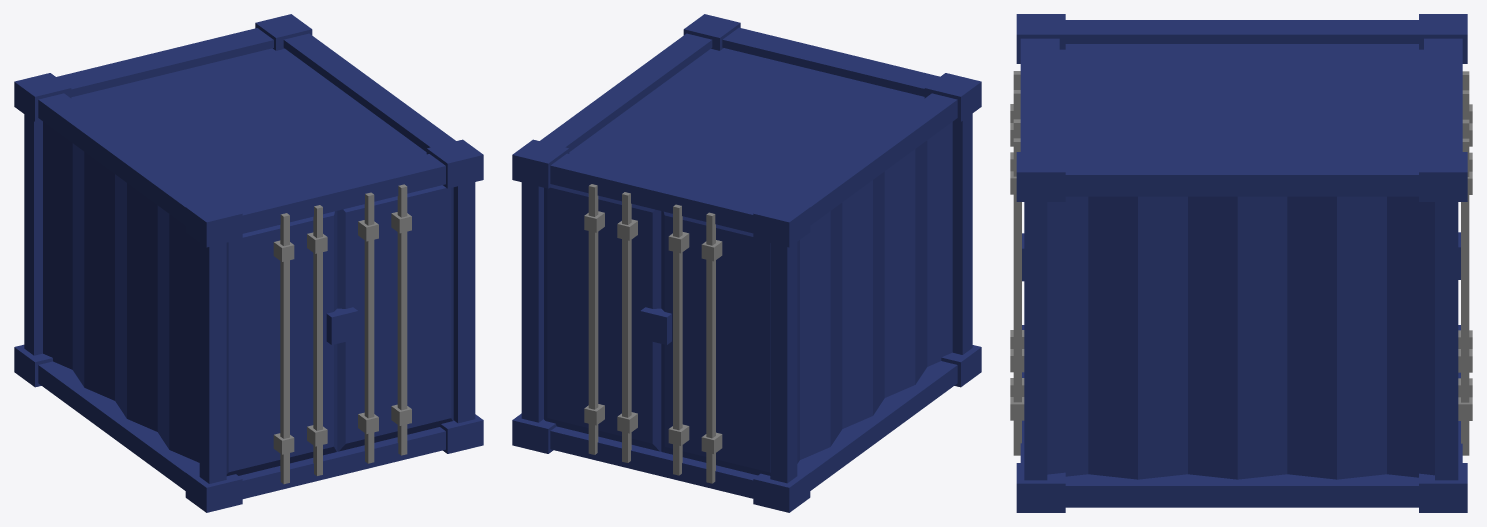
The model's file is CargoContainer_Small.fbx.
3 renders of one model, left to right at view 1: azimuth 30°, elevation 25°; view 2: azimuth 150°, elevation 25°; view 3: azimuth 270°, elevation 25°, orthographic. The views are drawn at different scales.
Parts seen in each view (by area): view 1: CargoContainer_Small; view 2: CargoContainer_Small; view 3: CargoContainer_Small.
Boxes of the visible parts, box(x1,y1,x2,y2) form: CargoContainer_Small: box(14, 14, 483, 512); CargoContainer_Small: box(512, 14, 981, 512); CargoContainer_Small: box(1010, 14, 1472, 512).
Size of the model in its own units: 302 by 302 by 372.
